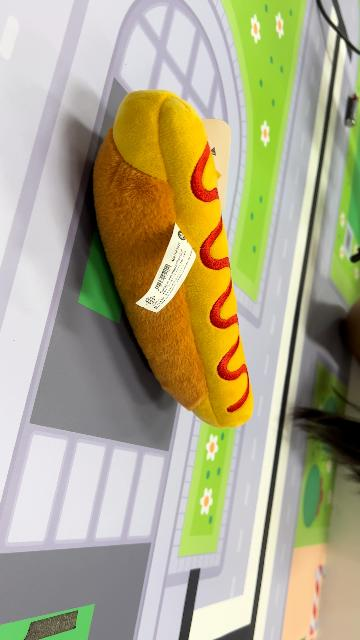hotdog: (92, 89, 256, 431)
